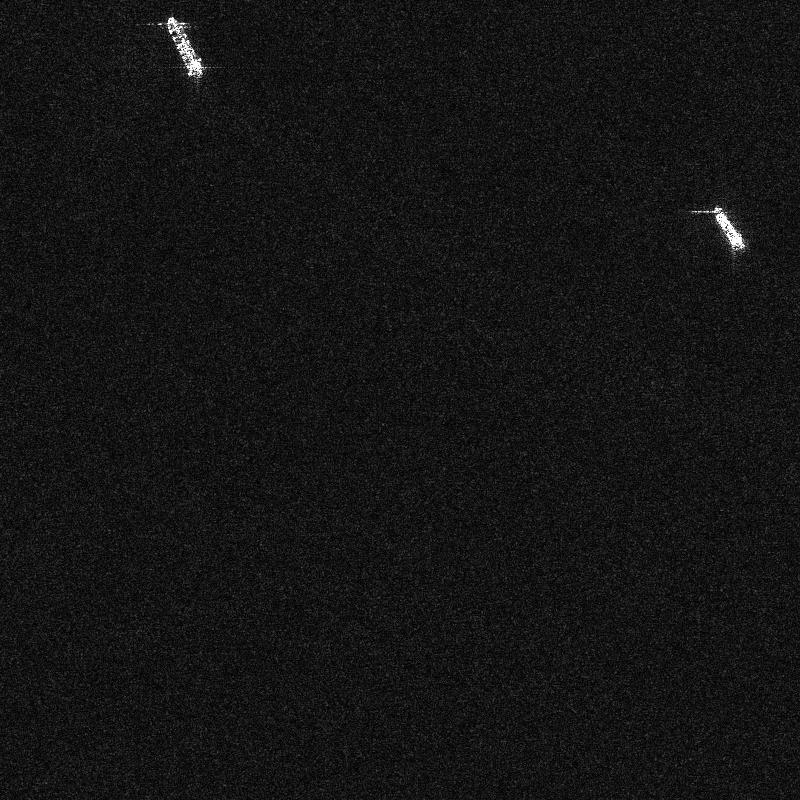ship: (166, 16, 204, 78), (713, 205, 744, 250)
